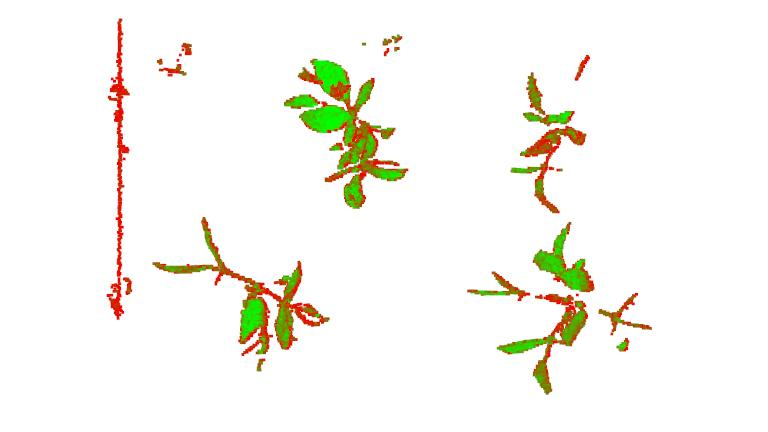mungbean: (480, 220, 654, 403), (148, 214, 334, 360), (285, 52, 407, 207), (522, 72, 585, 221)
